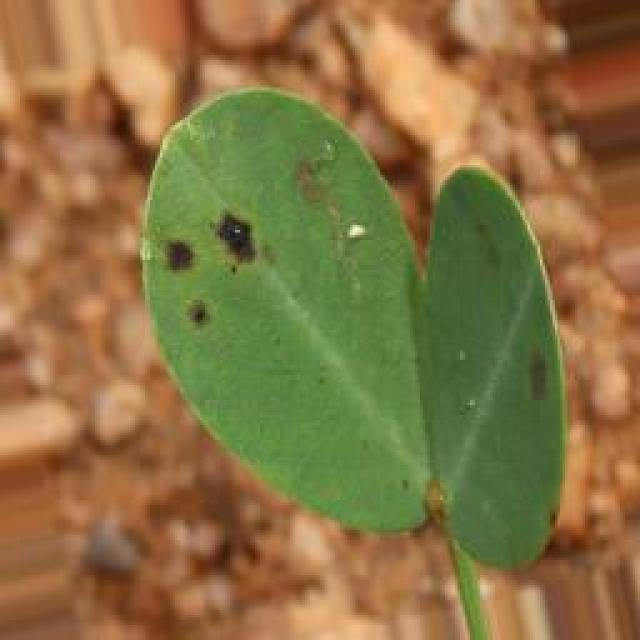Yellowish: (363, 200, 581, 510), (118, 123, 311, 400), (269, 112, 372, 281)
